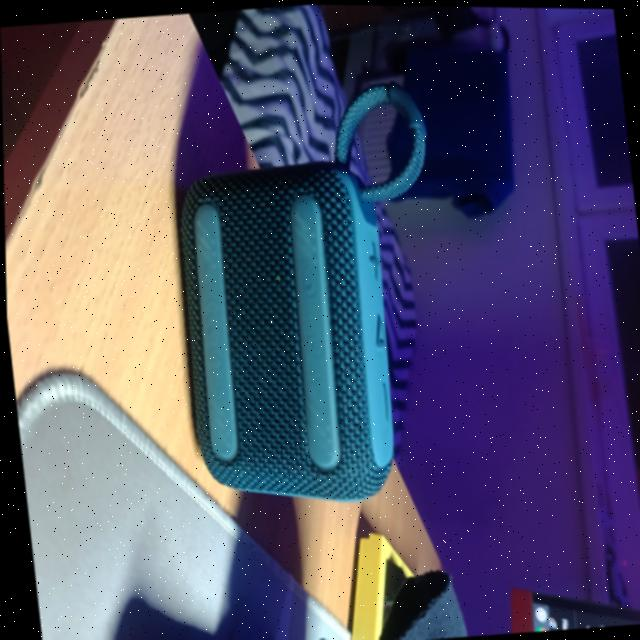column JBL: (153, 72, 466, 505)
